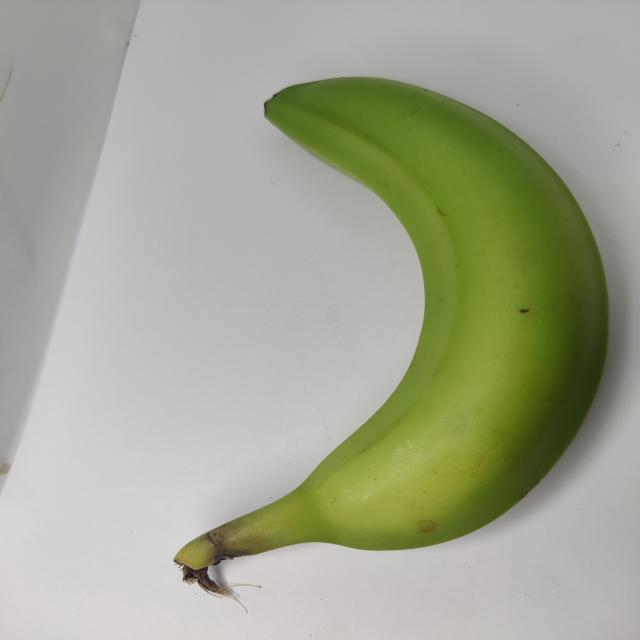raw: (145, 65, 615, 600)
